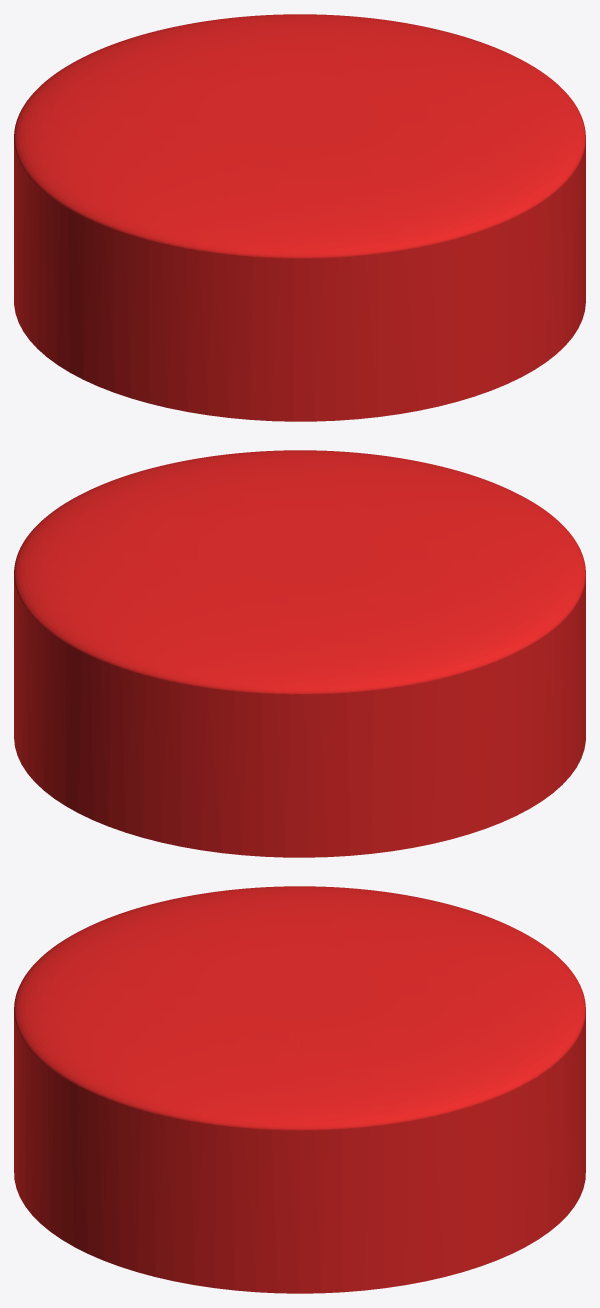
Rendered from bouchon_produit_07.glb.
3 renders of one model, top to bottom at view 1: azimuth 30°, elevation 25°; view 2: azimuth 150°, elevation 25°; view 3: azimuth 270°, elevation 25°, orthographic.
Visible parts, largest first — view 1: bouteille prototype V3 bouchon; view 2: bouteille prototype V3 bouchon; view 3: bouteille prototype V3 bouchon.
Part boxes in pixels (<box>): bouteille prototype V3 bouchon: <box>14,14,585,421</box>; bouteille prototype V3 bouchon: <box>14,450,585,857</box>; bouteille prototype V3 bouchon: <box>14,886,585,1293</box>.
Size of the model in its own units: 69.58 by 24.85 by 69.58.
